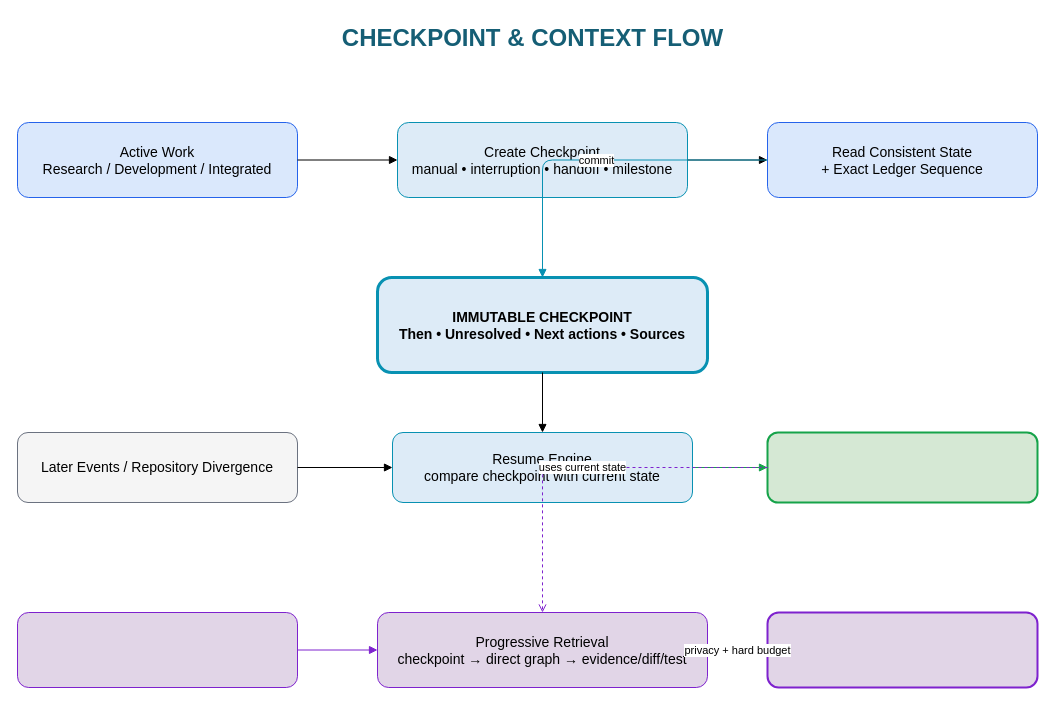
Image size: 1056x705. Some labels were removed from this diagram. Each missing label, with the centre of its shape:
"CONTEXT PACK Provenance • Freshness • Omissions • Privacy" belongs at pixel 902 649.
"Context Pack Request task • audience • scope • budget" belongs at pixel 157 650.
"THEN / SINCE / NOW / NEXT" belongs at pixel 902 467.
